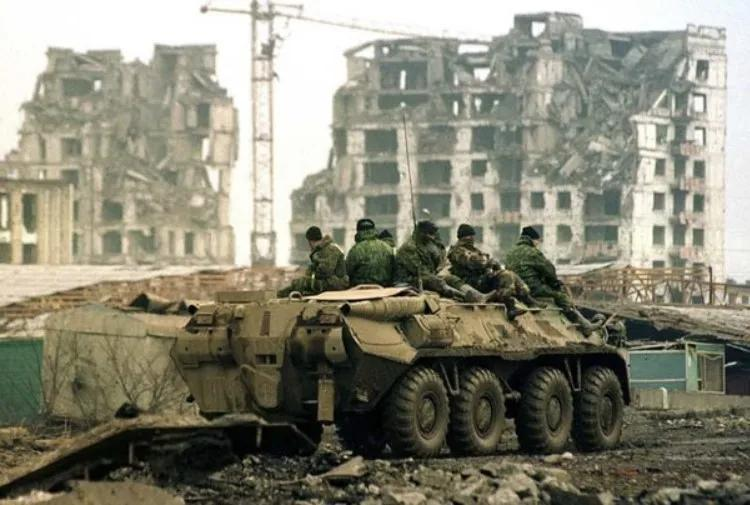MIL_IFV: (177, 276, 630, 456)
